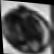correct: (0, 2, 52, 54)
